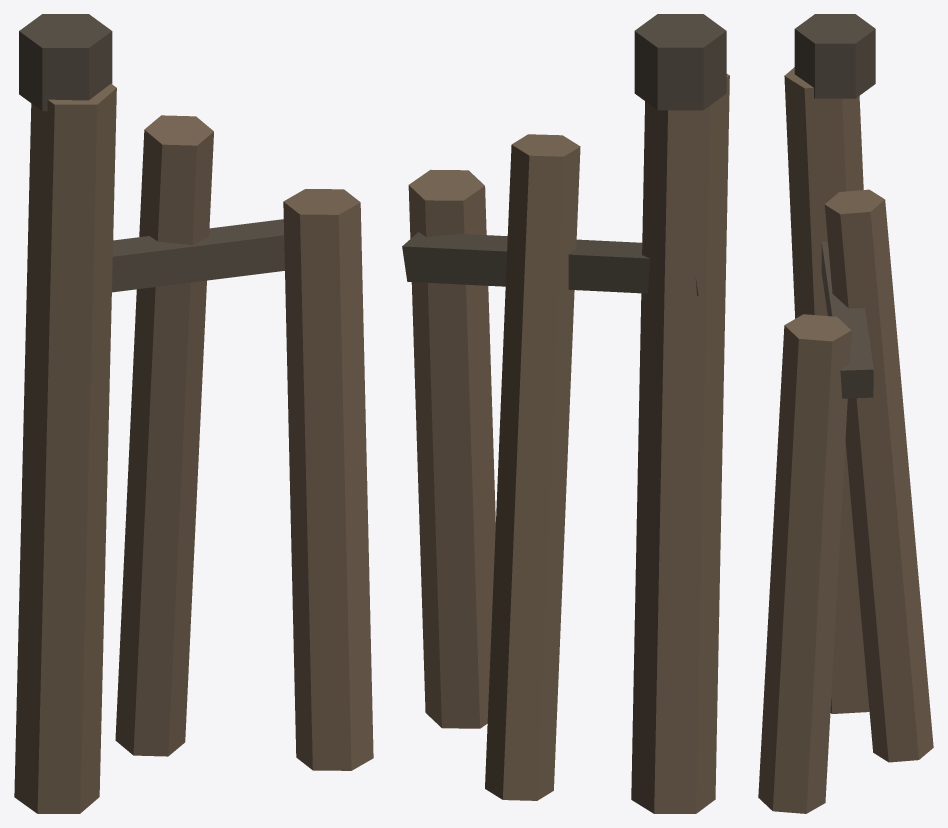
File: prop_piling.glb
3 renders of one model, left to right at view 1: azimuth 30°, elevation 25°; view 2: azimuth 150°, elevation 25°; view 3: azimuth 270°, elevation 25°, orthographic. The views are drawn at different scales.
Visible parts, largest first — view 1: body_posts, accent_beam; view 2: body_posts, accent_beam; view 3: body_posts, accent_beam.
Boxes of the visible parts, left/top/right/bottom form: body_posts: left=14, top=84, right=373, bottom=813; accent_beam: left=19, top=14, right=284, bottom=292; body_posts: left=408, top=74, right=729, bottom=813; accent_beam: left=402, top=14, right=726, bottom=295; body_posts: left=758, top=67, right=933, bottom=813; accent_beam: left=794, top=14, right=875, bottom=398.
Bounding box in the file's own units: 0.9273 × 2.2 × 0.5198.
